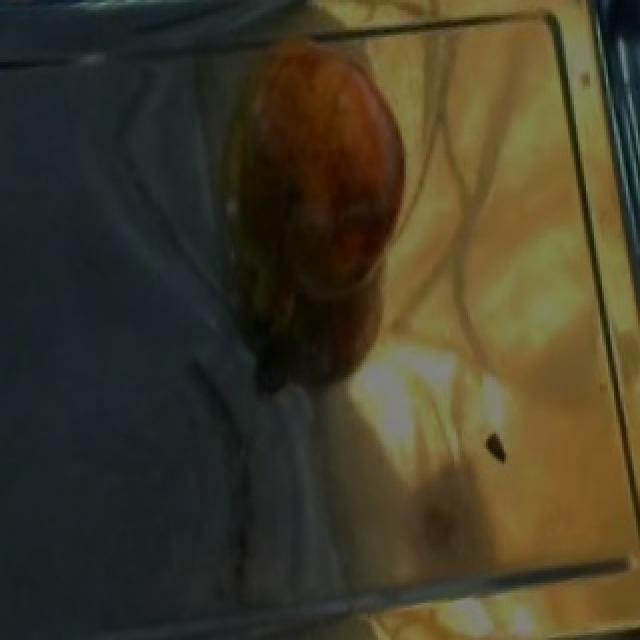fruit: (216, 10, 434, 317)
